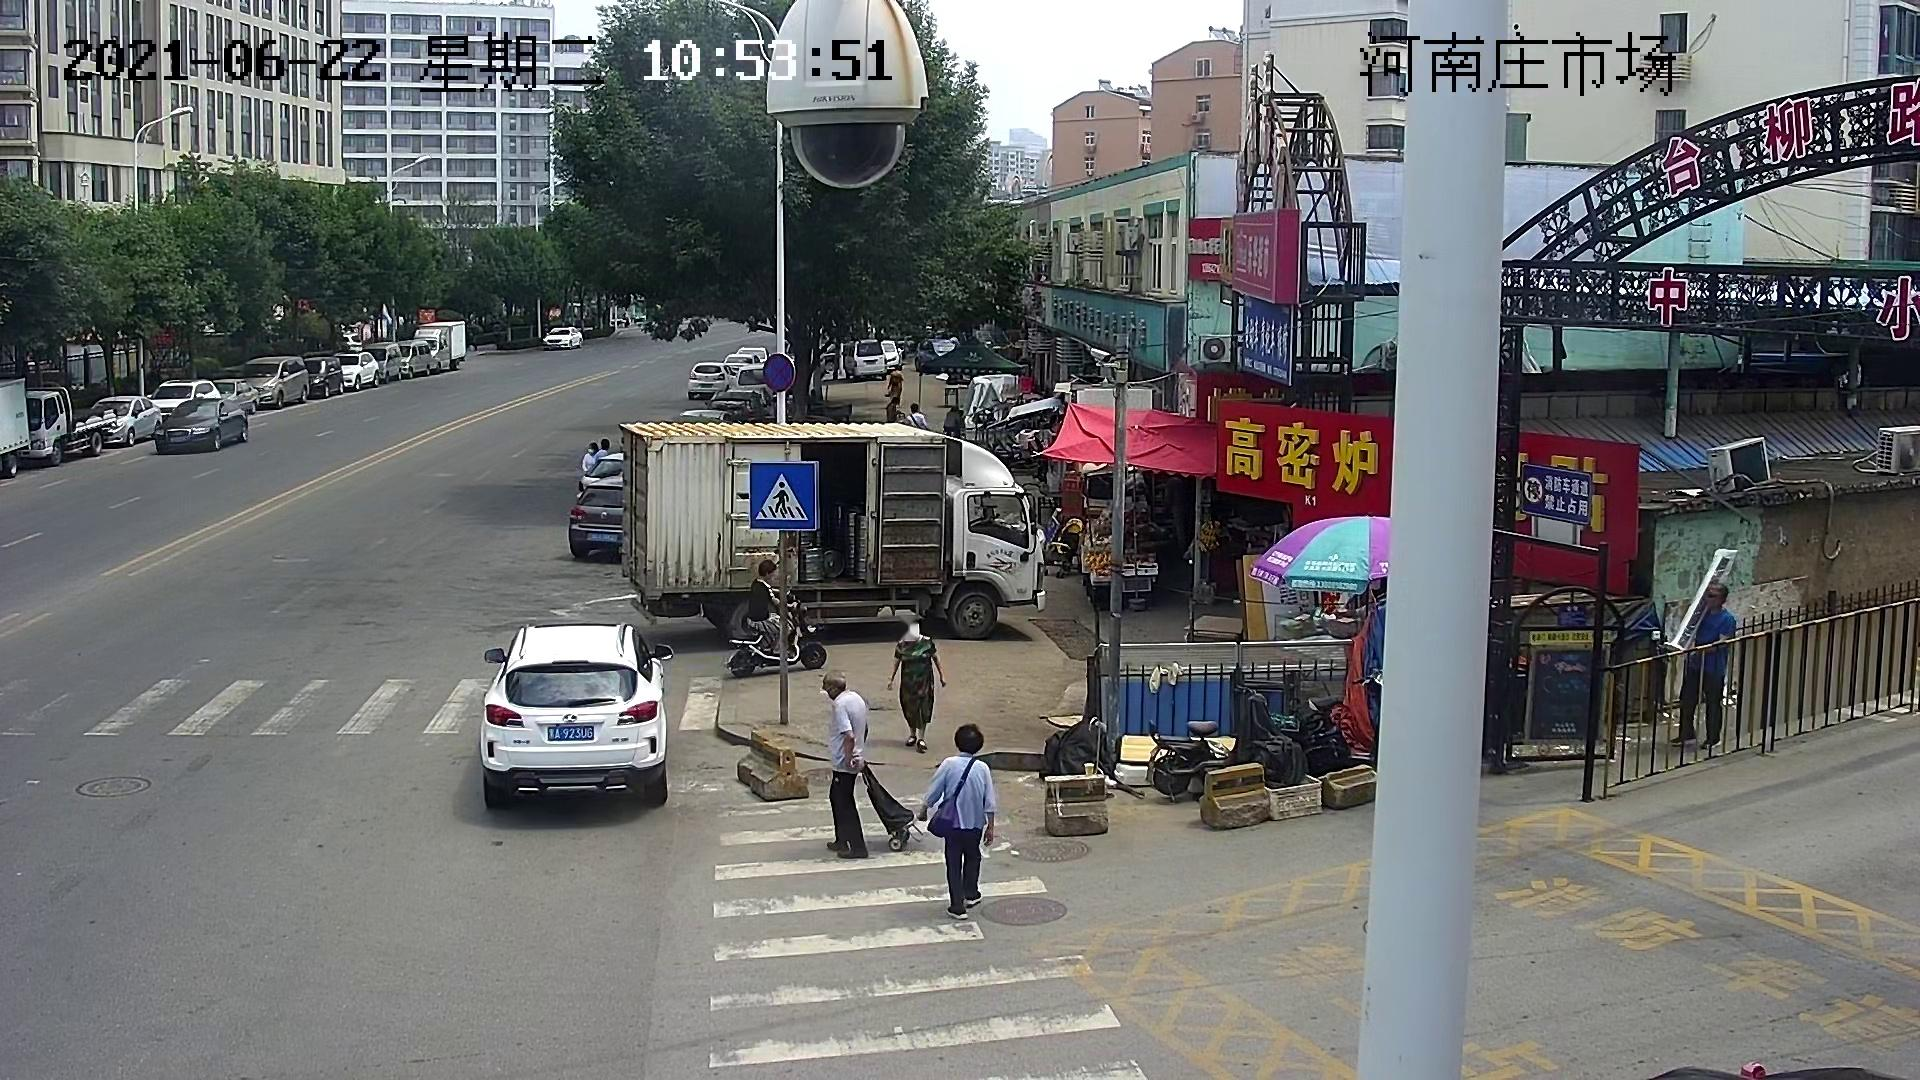umbrella: (1029, 402, 1218, 481), (1247, 516, 1391, 593), (920, 336, 1027, 373)
